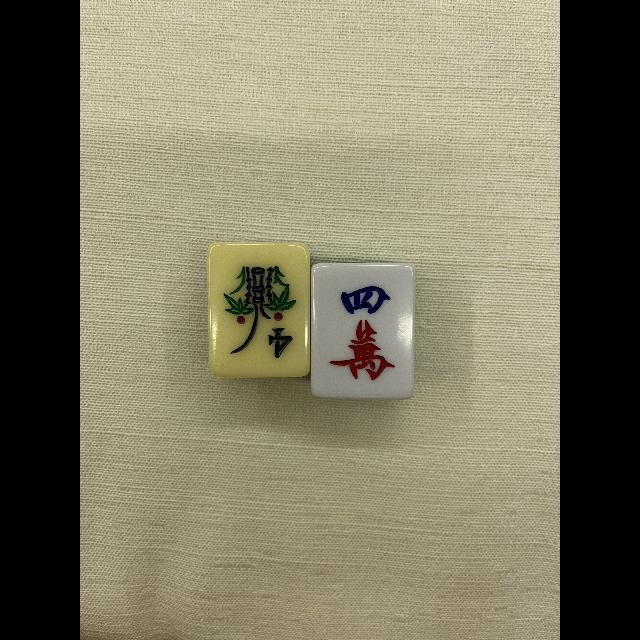c4: (312, 264, 412, 398)
f4-s: (210, 242, 308, 374)
